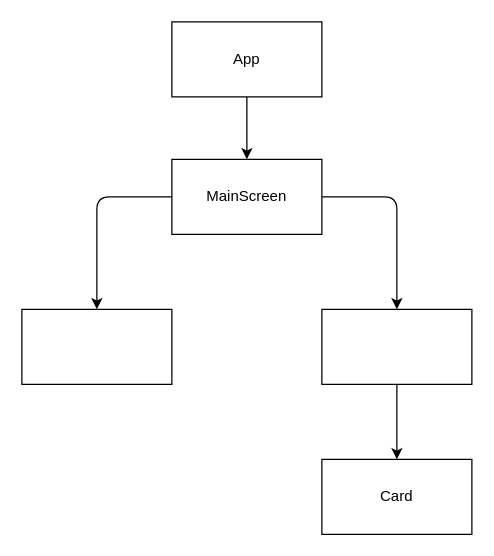
Image size: 494x556. Some labels were removed from this diagram. The centre of each missing label's shape, as x and y in pixels:
"CardList" goes at point 396,346.
"Footer" goes at point 96,346.
